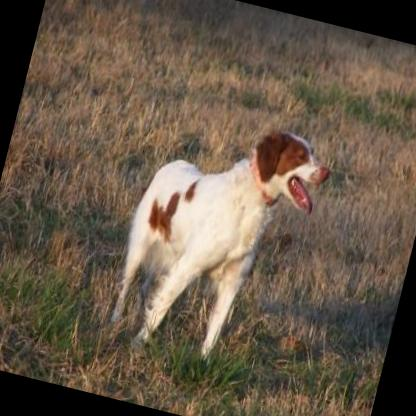Brittany_spaniel: (101, 99, 338, 381)
